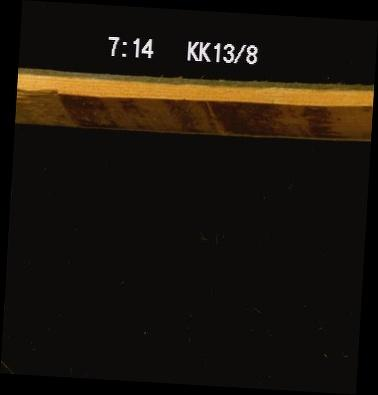wave: (15, 93, 371, 129)
